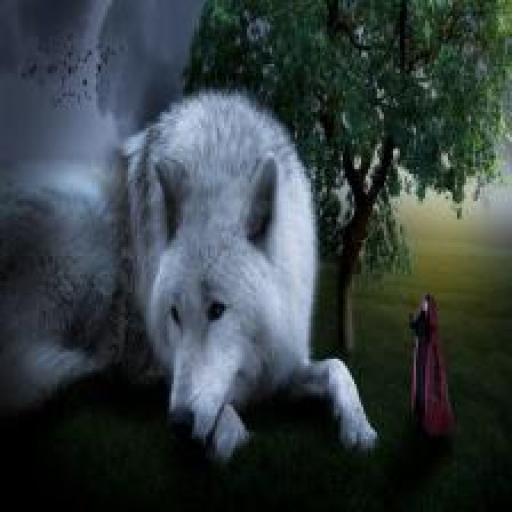wolf: (0, 93, 387, 460)
